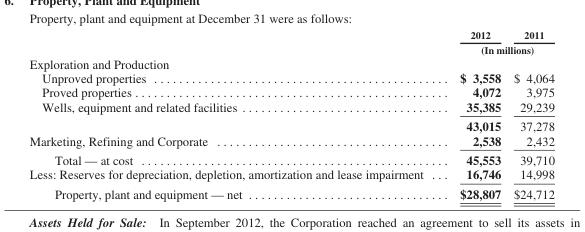table: (28, 28, 553, 200)
table column: (28, 28, 441, 200), (441, 28, 506, 200), (506, 28, 553, 200)
table column header: (28, 28, 553, 55)
table projected row header: (28, 55, 553, 70)
table row: (28, 115, 553, 132), (28, 132, 553, 149), (28, 149, 553, 166), (28, 166, 553, 183), (28, 183, 553, 200), (28, 99, 553, 115), (28, 55, 553, 70), (28, 84, 553, 99), (28, 41, 553, 55), (28, 70, 553, 84), (28, 28, 553, 41)
table spanning cell: (441, 41, 553, 55)
